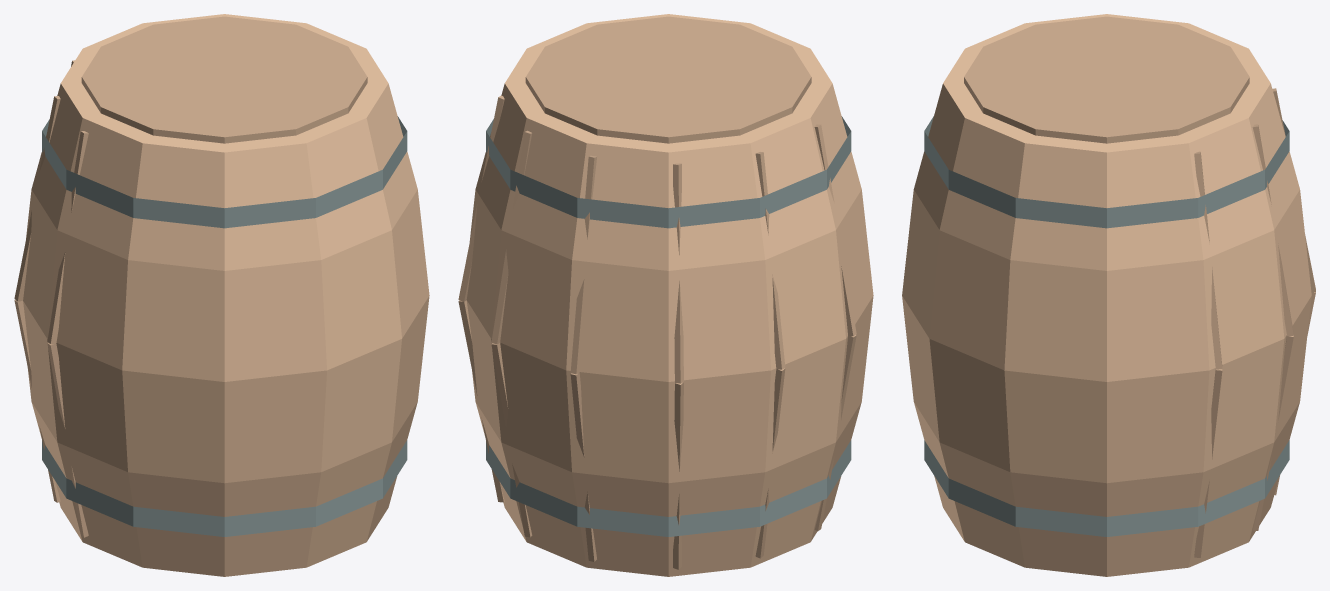
The model's file is barrel.glb.
The picture shows the model from 3 angles, left to right: view 1: azimuth 30°, elevation 25°; view 2: azimuth 150°, elevation 25°; view 3: azimuth 270°, elevation 25°; orthographic projection.
Parts seen in each view (by area): view 1: Barrel; view 2: Barrel; view 3: Barrel.
Part boxes in pixels (<box>): Barrel: <box>14,14,429,576</box>; Barrel: <box>458,14,873,576</box>; Barrel: <box>902,14,1315,576</box>.
Size of the model in its own units: 0.3214 by 0.3691 by 0.3214.
